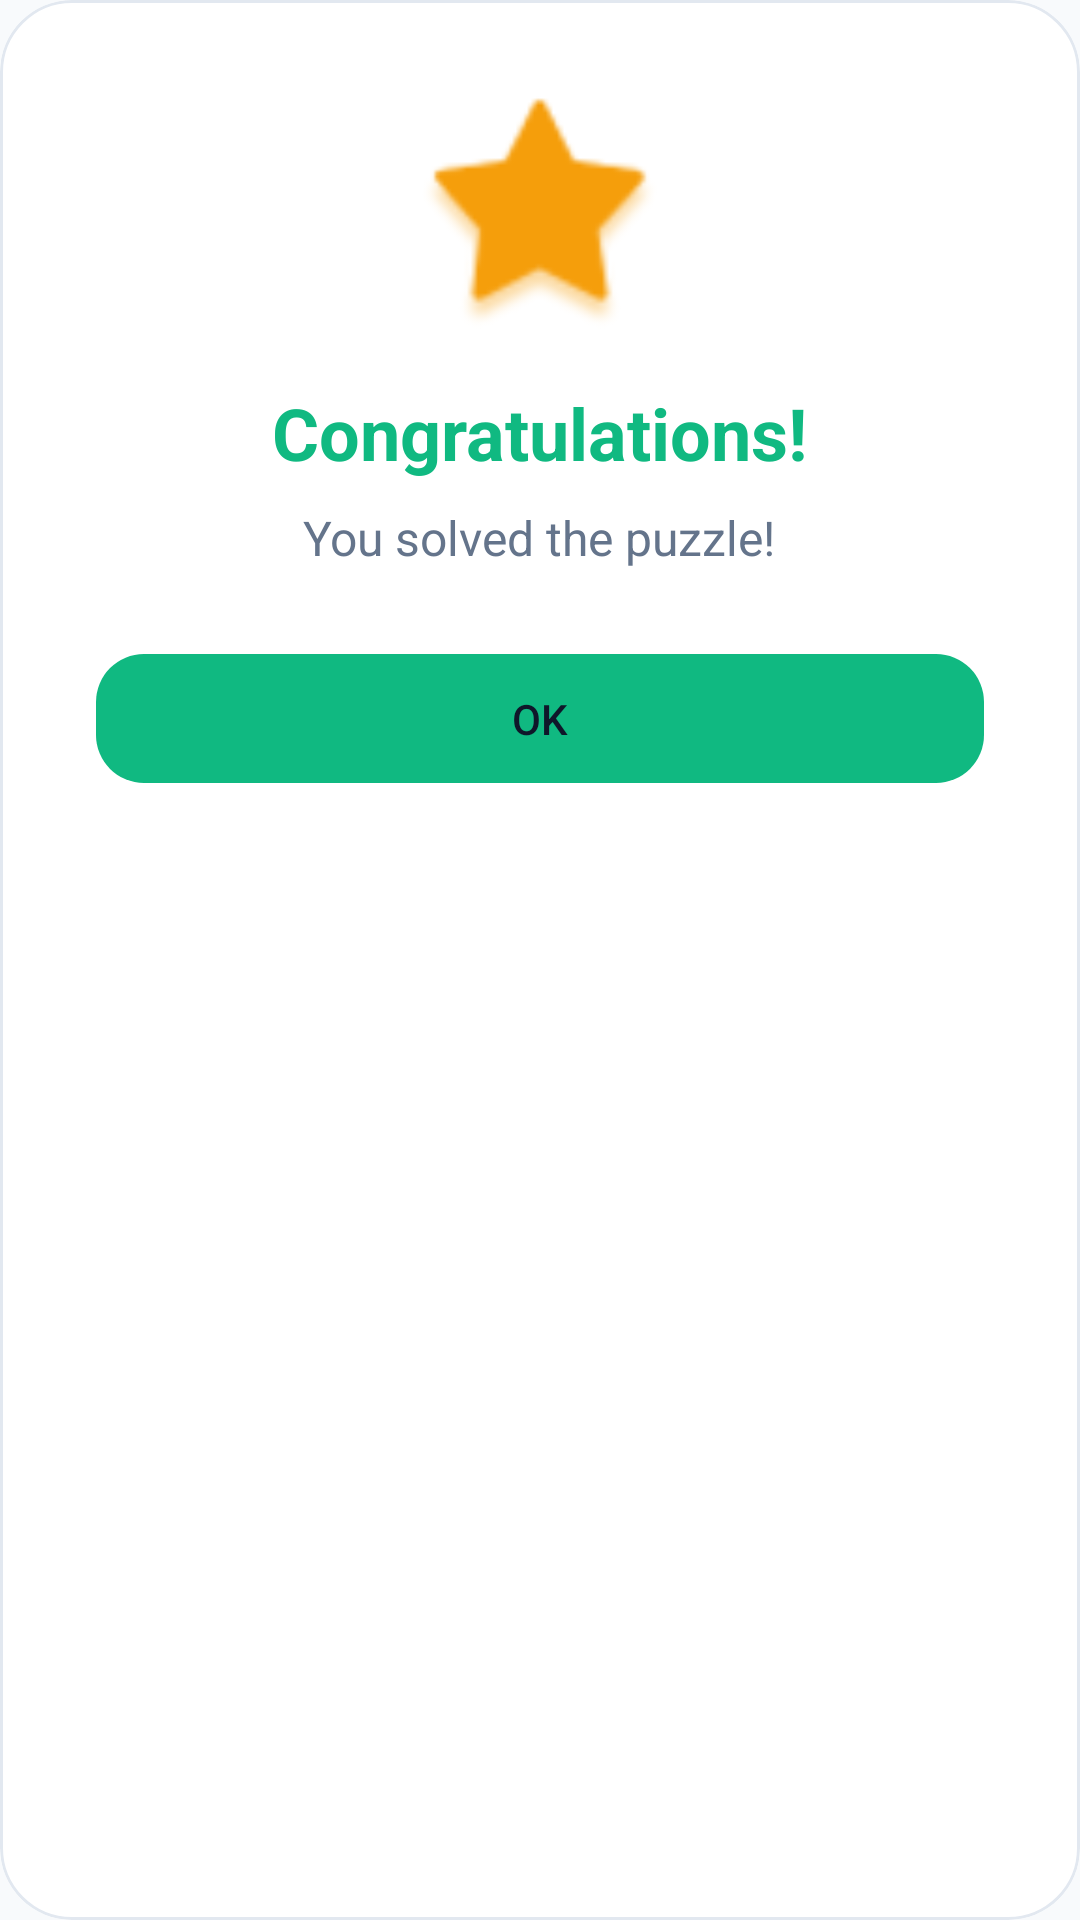

Point at icon controls on the screen. Image size 1080x1920, points as [x,y].
Success: [540,207]
